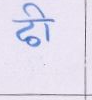o_matra: (36, 5, 54, 42)
